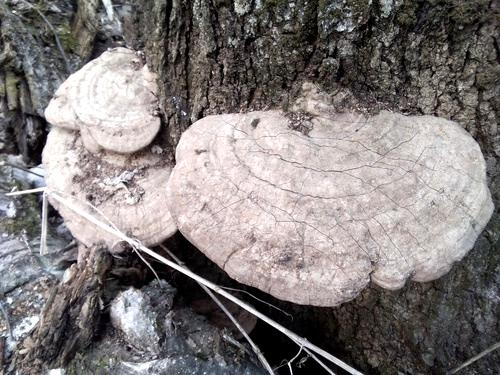Ganoderma - Fruit Body: (173, 106, 496, 303), (46, 152, 170, 252), (45, 46, 160, 151)
